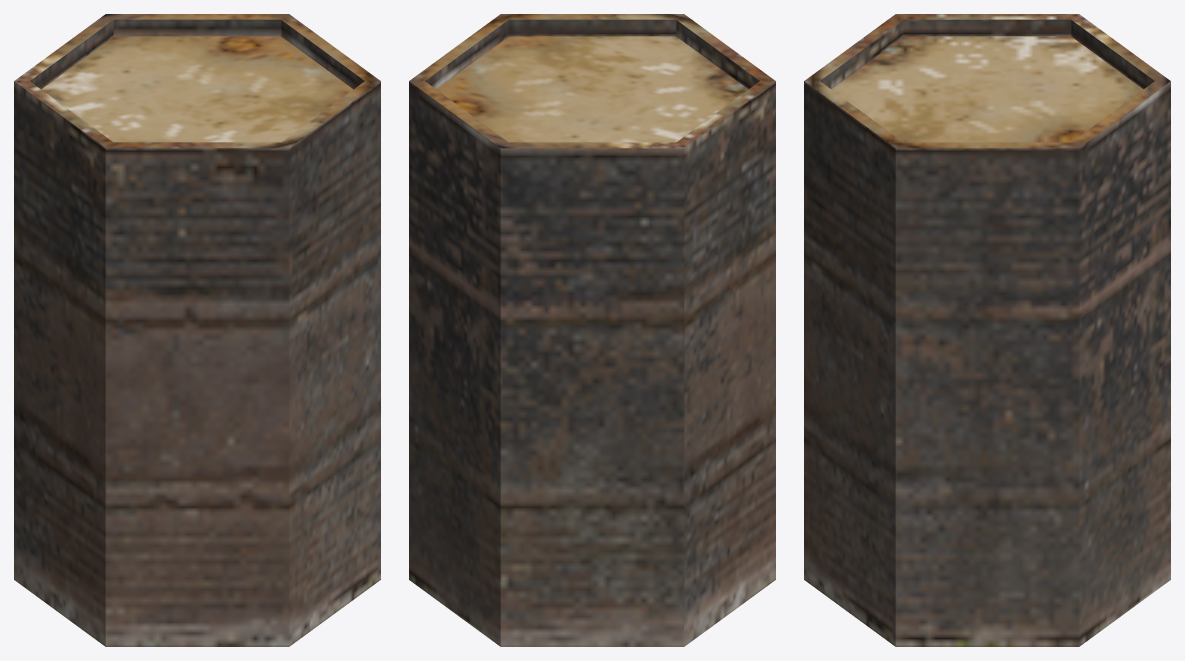
Rendered from Barrel03.obj.
3 renders of one model, left to right at view 1: azimuth 30°, elevation 25°; view 2: azimuth 150°, elevation 25°; view 3: azimuth 270°, elevation 25°, orthographic.
Parts seen in each view (by area): view 1: Barrel03; view 2: Barrel03; view 3: Barrel03.
Part boxes in pixels (x1,y1,x2,y2): Barrel03: (14,14,380,646); Barrel03: (409,14,775,646); Barrel03: (804,14,1170,646).
Size of the model in its own units: 0.6928 by 1.2 by 0.8.
